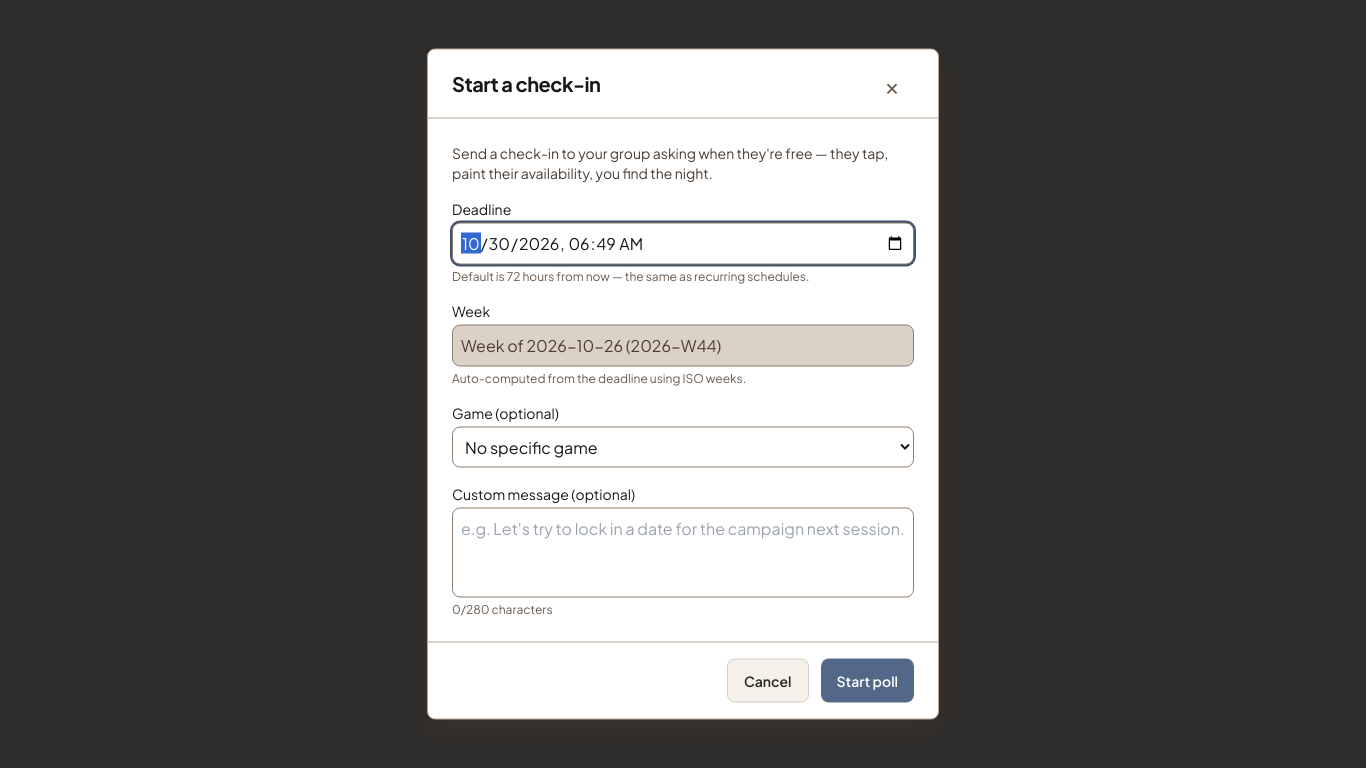
Test case: StartPollModal — error copy is keyed on the status, not the prose (88.6-22) › renders the conflict copy for a 409, from the code and not the message
The image size is (1366, 768).
Step 1. Click the button "Start poll" → (867, 680), box [820,658,914,702]
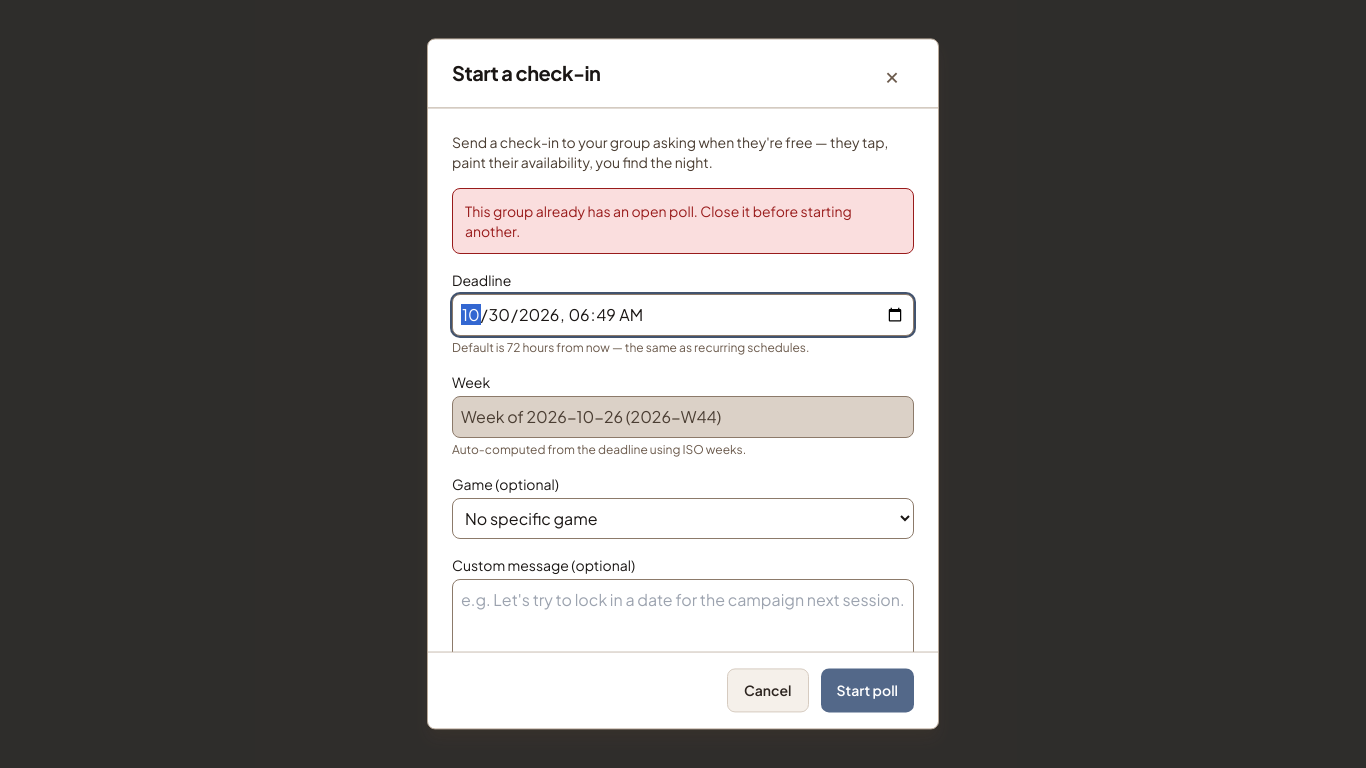
Result: the text "This group already has an open poll. Close it before starting another." is shown at [465,201,901,241]
